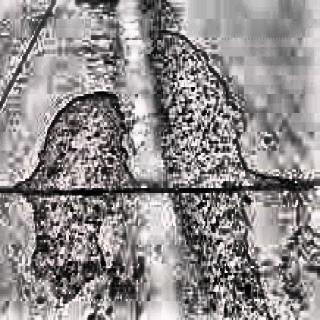crack: (0, 182, 320, 194), (1, 63, 23, 107), (20, 27, 42, 66), (37, 0, 55, 30)
pothole: (165, 140, 254, 244), (38, 87, 128, 189), (150, 26, 224, 138), (31, 188, 105, 299), (186, 250, 270, 320)
